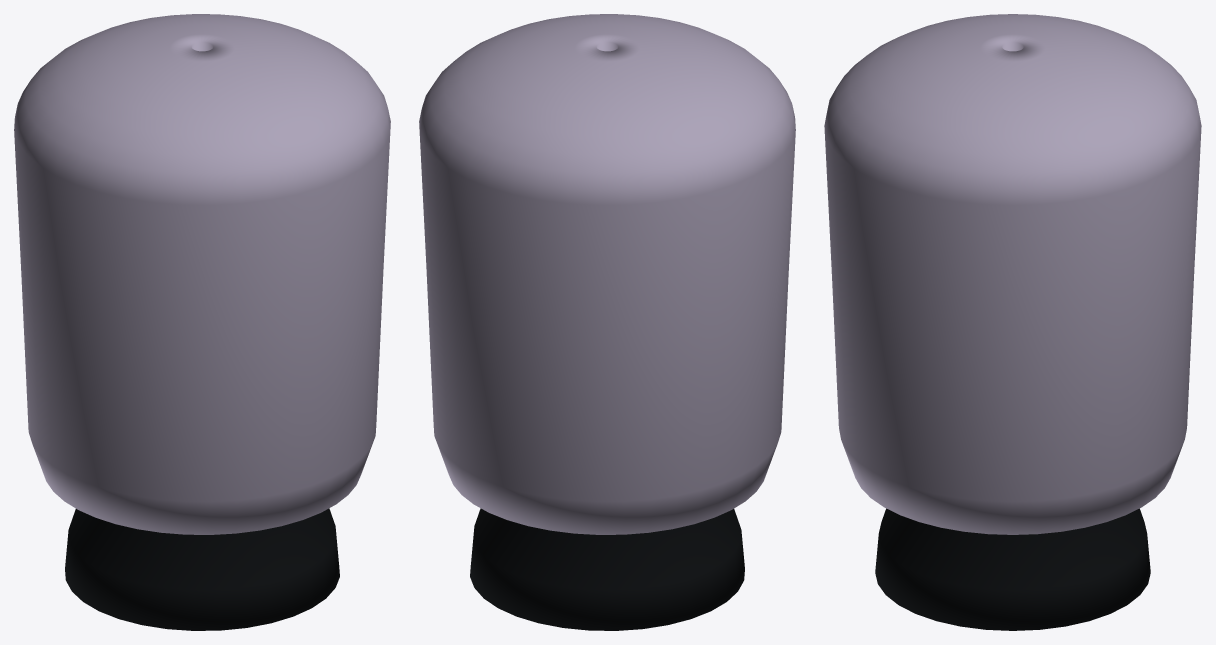
Rendered from GK03_tall_titanium_knob.glb.
3 renders of one model, left to right at view 1: azimuth 30°, elevation 25°; view 2: azimuth 150°, elevation 25°; view 3: azimuth 270°, elevation 25°, orthographic.
Parts seen in each view (by area): view 1: MOD_ND_GK03_knob, MOD_ND_GK03_collar; view 2: MOD_ND_GK03_knob, MOD_ND_GK03_collar; view 3: MOD_ND_GK03_knob, MOD_ND_GK03_collar.
Boxes of the visible parts, left/top/right/bottom form: MOD_ND_GK03_knob: left=14, top=14, right=390, bottom=534; MOD_ND_GK03_collar: left=65, top=508, right=339, bottom=630; MOD_ND_GK03_knob: left=419, top=14, right=795, bottom=534; MOD_ND_GK03_collar: left=470, top=508, right=744, bottom=630; MOD_ND_GK03_knob: left=824, top=14, right=1201, bottom=534; MOD_ND_GK03_collar: left=875, top=508, right=1150, bottom=630.
Size of the model in its own units: 0.052 by 0.08 by 0.052.
